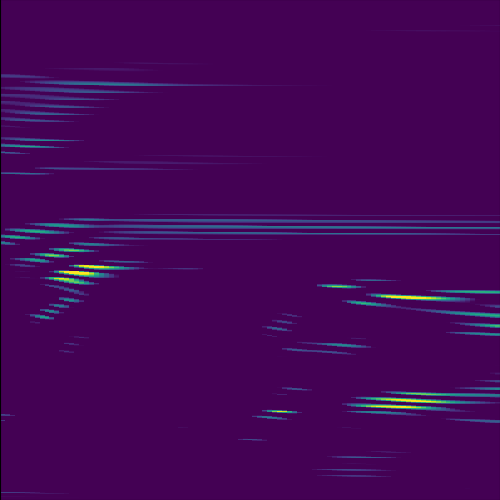semblance: (345, 387, 476, 419), (42, 263, 138, 288)
